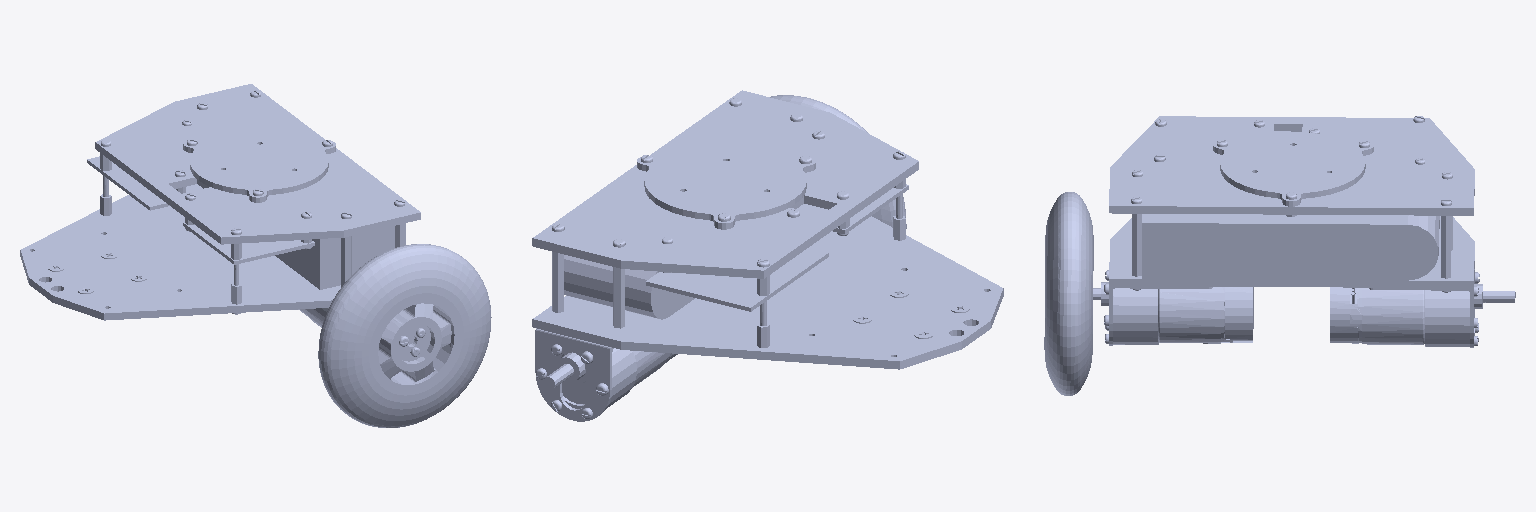
The robot description file, URDF, robot "jakebot":
<?xml version="1.0"?>
<robot name="jakebot">

  <!-- Link definitions -->
  <link name="base_link">
    <inertial>
      <origin
        xyz="0 0 0"
        rpy="0 0 0" />
      <mass
        value="0.651" />
      <inertia
        ixx="0.0008822304"
        ixy="8.31584846E-06"
        ixz="4.68935E-05"
        iyy="0.00065021"
        iyz="2.04976E-06"
        izz="0.00099159" />
    </inertial>
    <visual>
      <origin
        xyz="0 0 0"
        rpy="0 0 0" />
      <geometry>
        <mesh
          filename="package://jakebot_description/meshes/base_link.STL" />
      </geometry>
      <material
        name="">
        <color
          rgba="0.792156862745098 0.819607843137255 0.933333333333333 1" />
      </material>
    </visual>
    <collision>
      <origin
        xyz="0 0 0"
        rpy="0 0 0" />
      <geometry>
        <mesh
          filename="package://jakebot_description/meshes/base_link.STL" />
      </geometry>
    </collision>
  </link>


  <link name="right_wheel_link">
    <inertial>
      <origin
        xyz="0 0 0"
        rpy="0 0 0" />
      <mass
        value="0.16281" />
      <inertia
        ixx="2.2535E-07"
        ixy="5.5211E-10"
        ixz="1.2106E-09"
        iyy="2.2683E-07"
        iyz="-2.1644E-09"
        izz="1.4822E-08" />
    </inertial>
    <visual>
      <origin
        xyz="0 0 0"
        rpy="0 0 0" />
      <geometry>
        <mesh
          filename="package://jakebot_description/meshes/right_wheel_link.STL" />
      </geometry>
      <material
        name="">
        <color
          rgba="0.792156862745098 0.819607843137255 0.933333333333333 1" />
      </material>
    </visual>
    <collision>
      <origin
        xyz="0 0 0"
        rpy="0 0 0" />
      <geometry>
        <cylinder length="0.025" radius ="0.05"/>
      </geometry>
    </collision>
  </link>

  <link name= "left_wheel_link">
    <inertial>
      <origin
        xyz="0 0 0"
        rpy="0 0 0" />
      <mass
        value="0.16281" />
      <inertia
        ixx="2.2535E-07"
        ixy="5.5211E-10"
        ixz="1.2106E-09"
        iyy="2.2683E-07"
        iyz="-2.1644E-09"
        izz="1.4822E-08" />
    </inertial>
    <visual>
      <origin
        xyz="0 0 0"
        rpy="0 0 0" />
      <geometry>
        <mesh
          filename="package://jakebot_description/meshes/left_wheel_link.STL" />
      </geometry>
      <material
        name="">
        <color
          rgba="0.792156862745098 0.819607843137255 0.933333333333333 1" />
      </material>
    </visual>
    <collision>
      <origin
        xyz="0 0 0"
        rpy="0 0 0" />
      <geometry>
        <cylinder length="0.025" radius ="0.05"/>
      </geometry>
    </collision>
  </link>
  <!--
  <link name="swivel_link">
    <inertial>
      <origin
        xyz="0 0 0"
        rpy="0 0 0" />
      <mass
        value="0.0080737" />
      <inertia
        ixx="4.9309E-07"
        ixy="-1.4401E-08"
        ixz="2.5089E-07"
        iyy="5.9467E-07"
        iyz="3.4884E-08"
        izz="1.7588E-07" />
    </inertial>
    <visual>
      <origin
        xyz="0 0 0"
        rpy="0 0 0" />
      <geometry>
        <mesh
          filename="package://jakebot_urdf/meshes/swivel_link.STL" />
      </geometry>
      <material
        name="">
        <color
          rgba="1 1 1 0.3" />
      </material>
    </visual>
    <collision>
      <origin
        xyz="0 0 0"
        rpy="0 0 0" />
      <geometry>
        <mesh
          filename="package://jakebot_urdf/meshes/swivel_link.STL" />
      </geometry>
    </collision>
  </link>

  <link name="swivel_wheel_link">
    <visual>
      <origin
        xyz="0 0 0"
        rpy="0 0 0" />
      <geometry>
        <mesh
          filename="package://jakebot_urdf/meshes/swivel_wheel_link.STL" />
      </geometry>
      <material
        name="">
        <color
          rgba="1 1 1 0.3" />
      </material>
    </visual>
    <collision>
      <origin
        xyz="0 0 0"
        rpy="0 0 0" />
      <geometry>
        <mesh
          filename="package://jakebot_urdf/meshes/swivel_wheel_link.STL" />
      </geometry>
    </collision>
  </link>
  
  <link name="lidar_base" />
  -->

  <!-- Joint definitions -->
  <joint name="right_wheel_joint" type="continuous">
    <origin
      xyz="0.064063 -0.10977 -0.014095"
      rpy="1.5707963267949 0 0" />
    <parent
      link="base_link" />
    <child
      link="right_wheel_link" />
    <axis
      xyz="0 0 1" />
  </joint>

  <joint name="left_wheel_joint" type="continuous">
    <origin
      xyz="0.067477 0.1077 -0.014094"
      rpy="-1.5707963267949 0 0" />
    <parent
      link="base_link" />
    <child
      link="left_wheel_link" />
    <axis
      xyz="0 0 -1" />
  </joint>
  <!--
  <joint
    name="swivel_joint"
    type="continuous">
    <origin
      xyz="-0.053243 0.00083549 -0.005"
      rpy="0 0 0" />
    <parent
      link="base_link" />
    <child
      link="swivel_link" />
    <axis
      xyz="0 0 -1" />
  </joint>

  <joint
    name="swivel_wheel_joint"
    type="continuous">
    <origin
      xyz="-0.019053 -0.0026491 0.034"
      rpy="-1.570796327 0 0" />
    <parent
      link="swivel_link" />
    <child
      link="swivel_wheel_link" />
    <axis
      xyz="0 0 -1" />
  </joint>

  <joint
    name="lidar_base_joint"
    type="fixed">
    <origin
      xyz="0.041245 -0.00064721 0.046"
      rpy="0 0 0" />
    <parent
      link="base_link" />
    <child
      link="lidar_base" />
    <axis
      xyz="0 0 0" />
  </joint>
  -->
  <transmission name="left_wheel_trans" type="SimpleTransmission">
    <type>transmission_interface/SimpleTransmission</type>
      <actuator name="left_wheel_motor">
        <mechanicalReduction>1</mechanicalReduction>
      </actuator>
      <joint name="left_wheel_joint">
        <hardwareInterface>hardware_interface/VelocityJointInterface</hardwareInterface>
      </joint>
  </transmission>

  <transmission name="right_wheel_trans" type="SimpleTransmission">
    <type>transmission_interface/SimpleTransmission</type>
      <actuator name="right_wheel_motor">
        <mechanicalReduction>1</mechanicalReduction>
      </actuator>
      <joint name="right_wheel_joint">
        <hardwareInterface>hardware_interface/VelocityJointInterface</hardwareInterface>
      </joint>
  </transmission>

<gazebo>
  <plugin name="gazebo_ros_control" filename="libgazebo_ros_control.so">
    <robotNamespace>/</robotNamespace>
  </plugin>
</gazebo>

</robot>

--- What the picture shows (computed from the rendered views, not written in the file) ---
Views: 3 orthographic renders of the robot side by side, from view 1: azimuth 30°, elevation 25°; view 2: azimuth 150°, elevation 25°; view 3: azimuth 270°, elevation 25°.
Model jakebot with 3 links and 2 joints (2 continuous), rooted at base_link, posed every joint at zero.
Links seen in each view (by area): view 1: base_link, right_wheel_link; view 2: base_link, right_wheel_link; view 3: base_link, right_wheel_link.
Boxes of the visible links, <box> form: base_link: <box>20,84,420,327</box>; right_wheel_link: <box>318,244,491,427</box>; base_link: <box>532,90,1003,421</box>; right_wheel_link: <box>770,95,906,228</box>; base_link: <box>1093,116,1515,347</box>; right_wheel_link: <box>1044,192,1093,395</box>.
Size in the robot's own frame: 0.2004 by 0.2298 by 0.1117 metres.
Meshes: 3 distinct files referenced, 2 mesh visuals loaded (2 binary STL); not drawn: 1 (reference not matched to a file when rendering).
